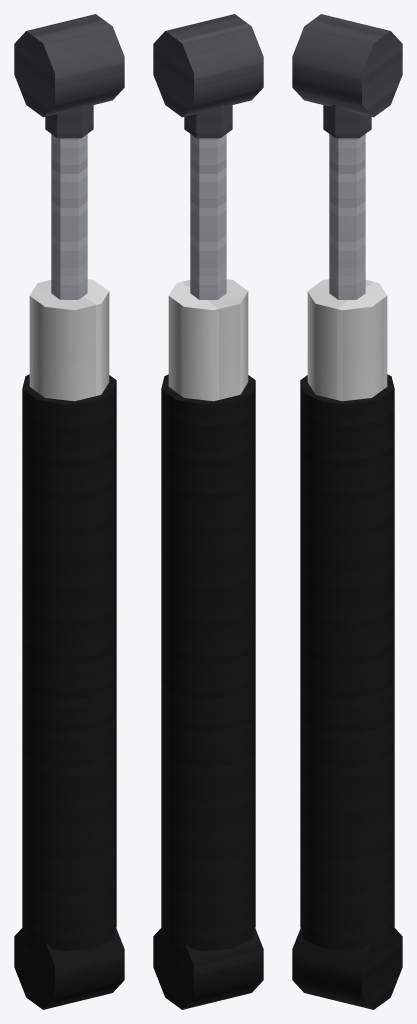
Rendered from amortecedores_fabrica.glb.
3 renders of one model, left to right at view 1: azimuth 30°, elevation 25°; view 2: azimuth 210°, elevation 25°; view 3: azimuth 330°, elevation 25°, orthographic.
Parts seen in each view (by area): view 1: amortecedores_fabrica; view 2: amortecedores_fabrica; view 3: amortecedores_fabrica.
Boxes of the visible parts, left/top/right/bottom form: amortecedores_fabrica: left=14, top=14, right=124, bottom=1009; amortecedores_fabrica: left=153, top=14, right=263, bottom=1009; amortecedores_fabrica: left=292, top=14, right=402, bottom=1009.
Bounding box in the file's own units: 0.0457 × 0.5307 × 0.048.
3 materials, 3 textured.
